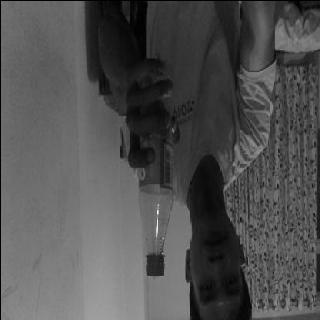plastic_bottles: (135, 48, 174, 276)
